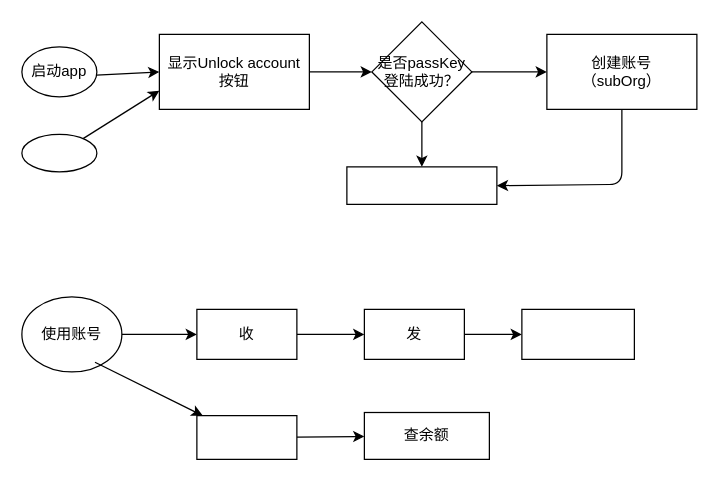
Image size: 719x481. Some labels were removed from this diagram. The centre of each missing label's shape, as x and y in pixels:
切链: point (246, 436)
显示链信息和地址: point (421, 185)
查看交易记录: point (577, 333)
激活: point (59, 152)
